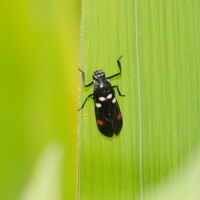insect: (78, 56, 124, 136)
